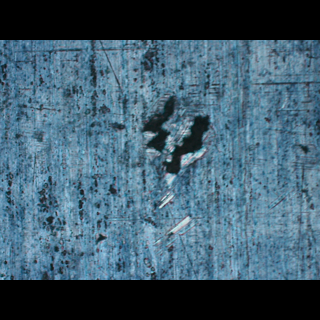d: (134, 96, 215, 218)
